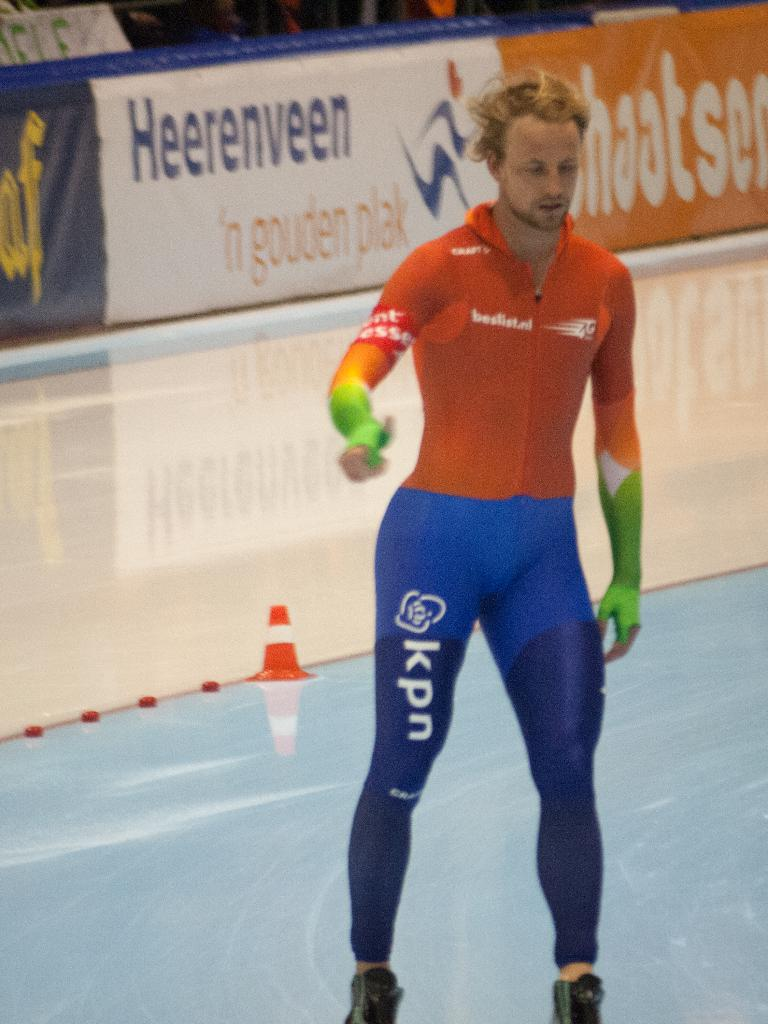Person: (326, 67, 643, 1024)
